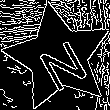N_NW: (28, 25, 89, 89)
